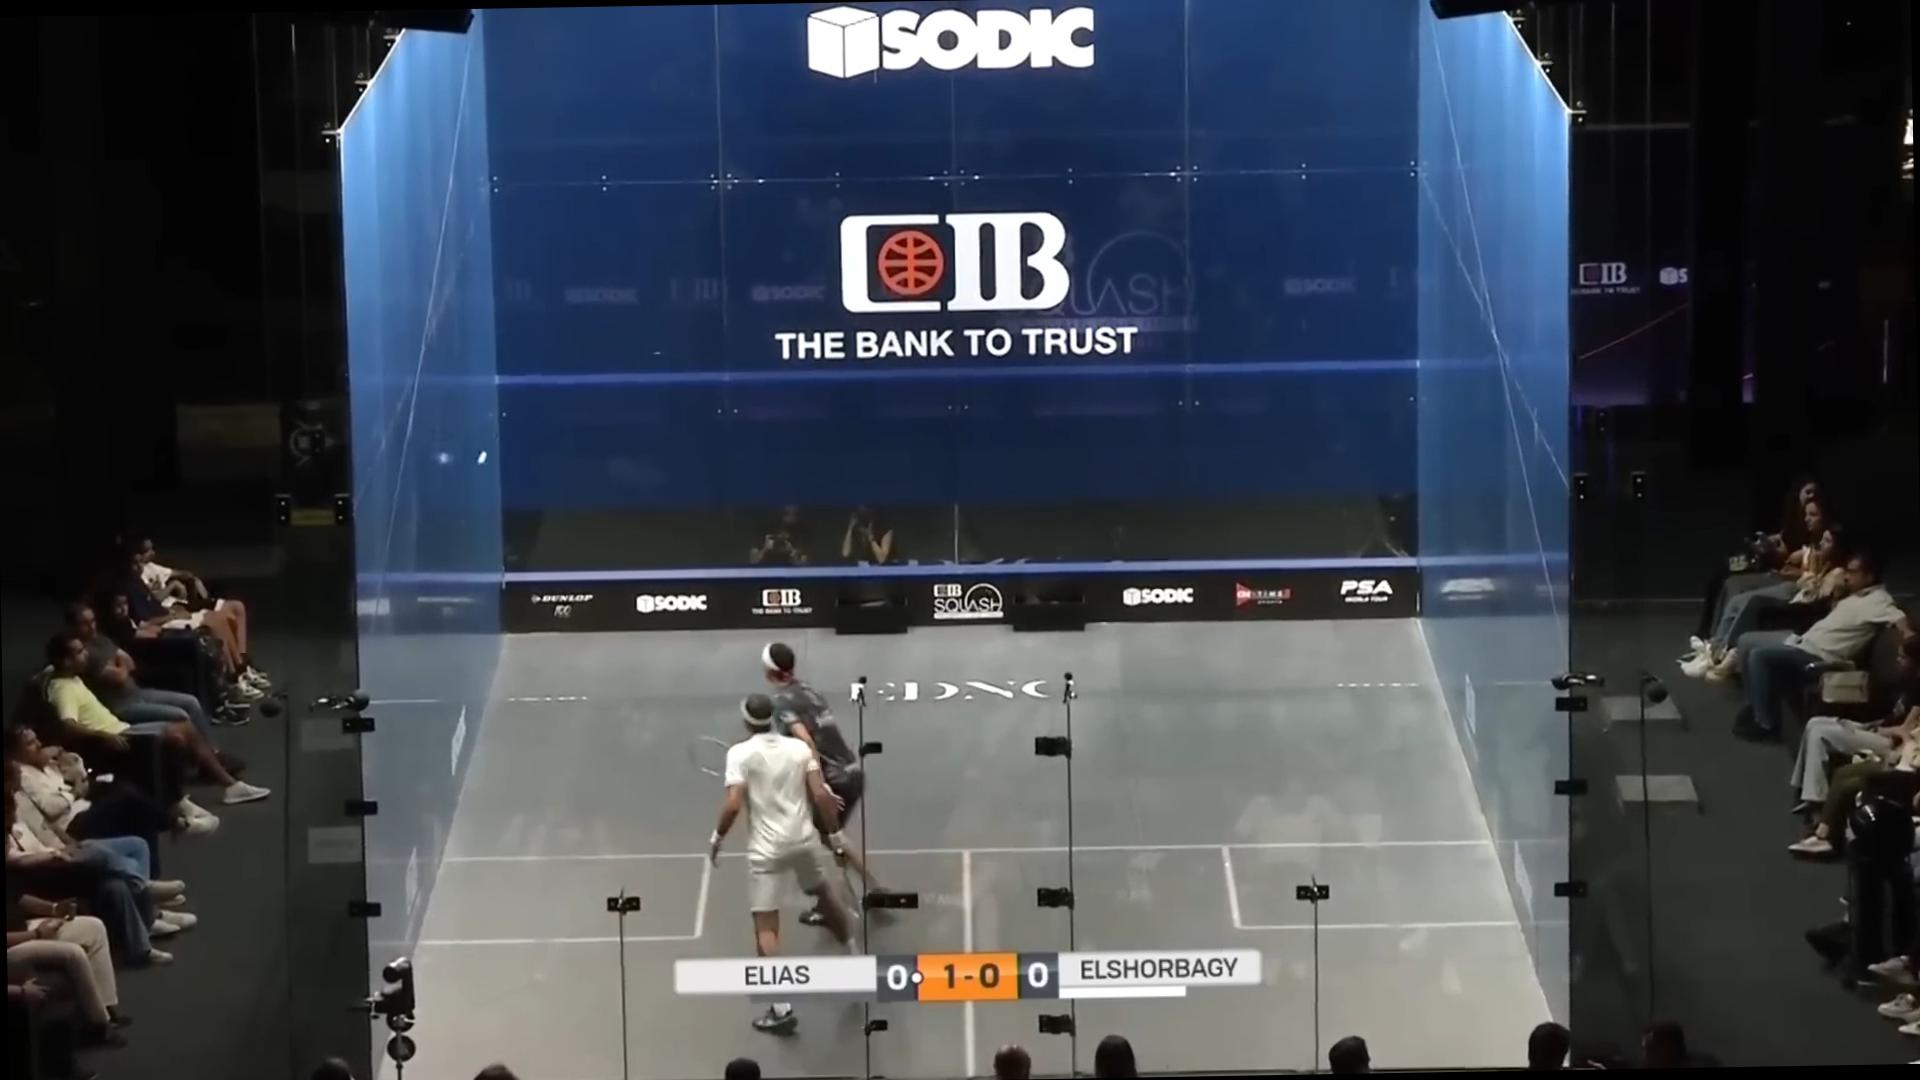Squash-Ball: (463, 438, 500, 479)
